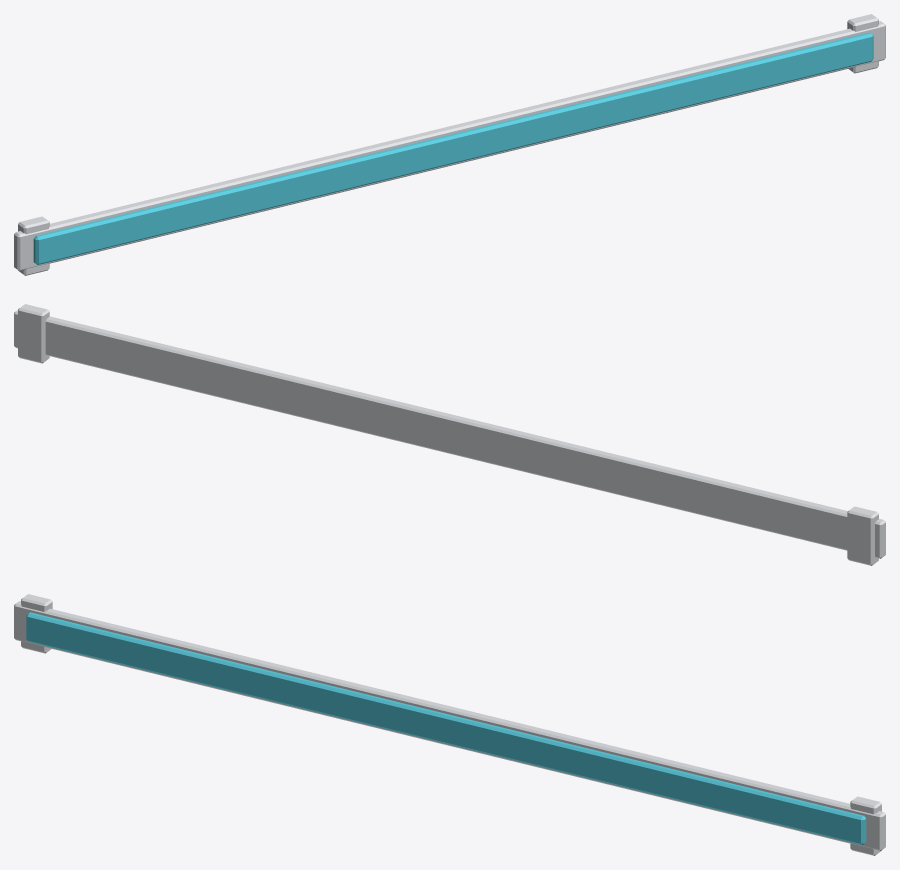
File: laser-tag-arena-and-activity-centre-glow-stripe-trim-c-b6421df2__34483.glb
The picture shows the model from 3 angles, top to bottom: view 1: azimuth 30°, elevation 25°; view 2: azimuth 150°, elevation 25°; view 3: azimuth 330°, elevation 25°; orthographic projection.
Visible parts, largest first — view 1: glow-stripe-trim-cyan; view 2: glow-stripe-trim-cyan; view 3: glow-stripe-trim-cyan.
Part boxes in pixels (box(x1,y1,x2,y2)): glow-stripe-trim-cyan: box(14, 14, 885, 275); glow-stripe-trim-cyan: box(14, 304, 885, 565); glow-stripe-trim-cyan: box(14, 594, 885, 855).
Bounding box in the file's own units: 2 × 0.1101 × 0.044.
